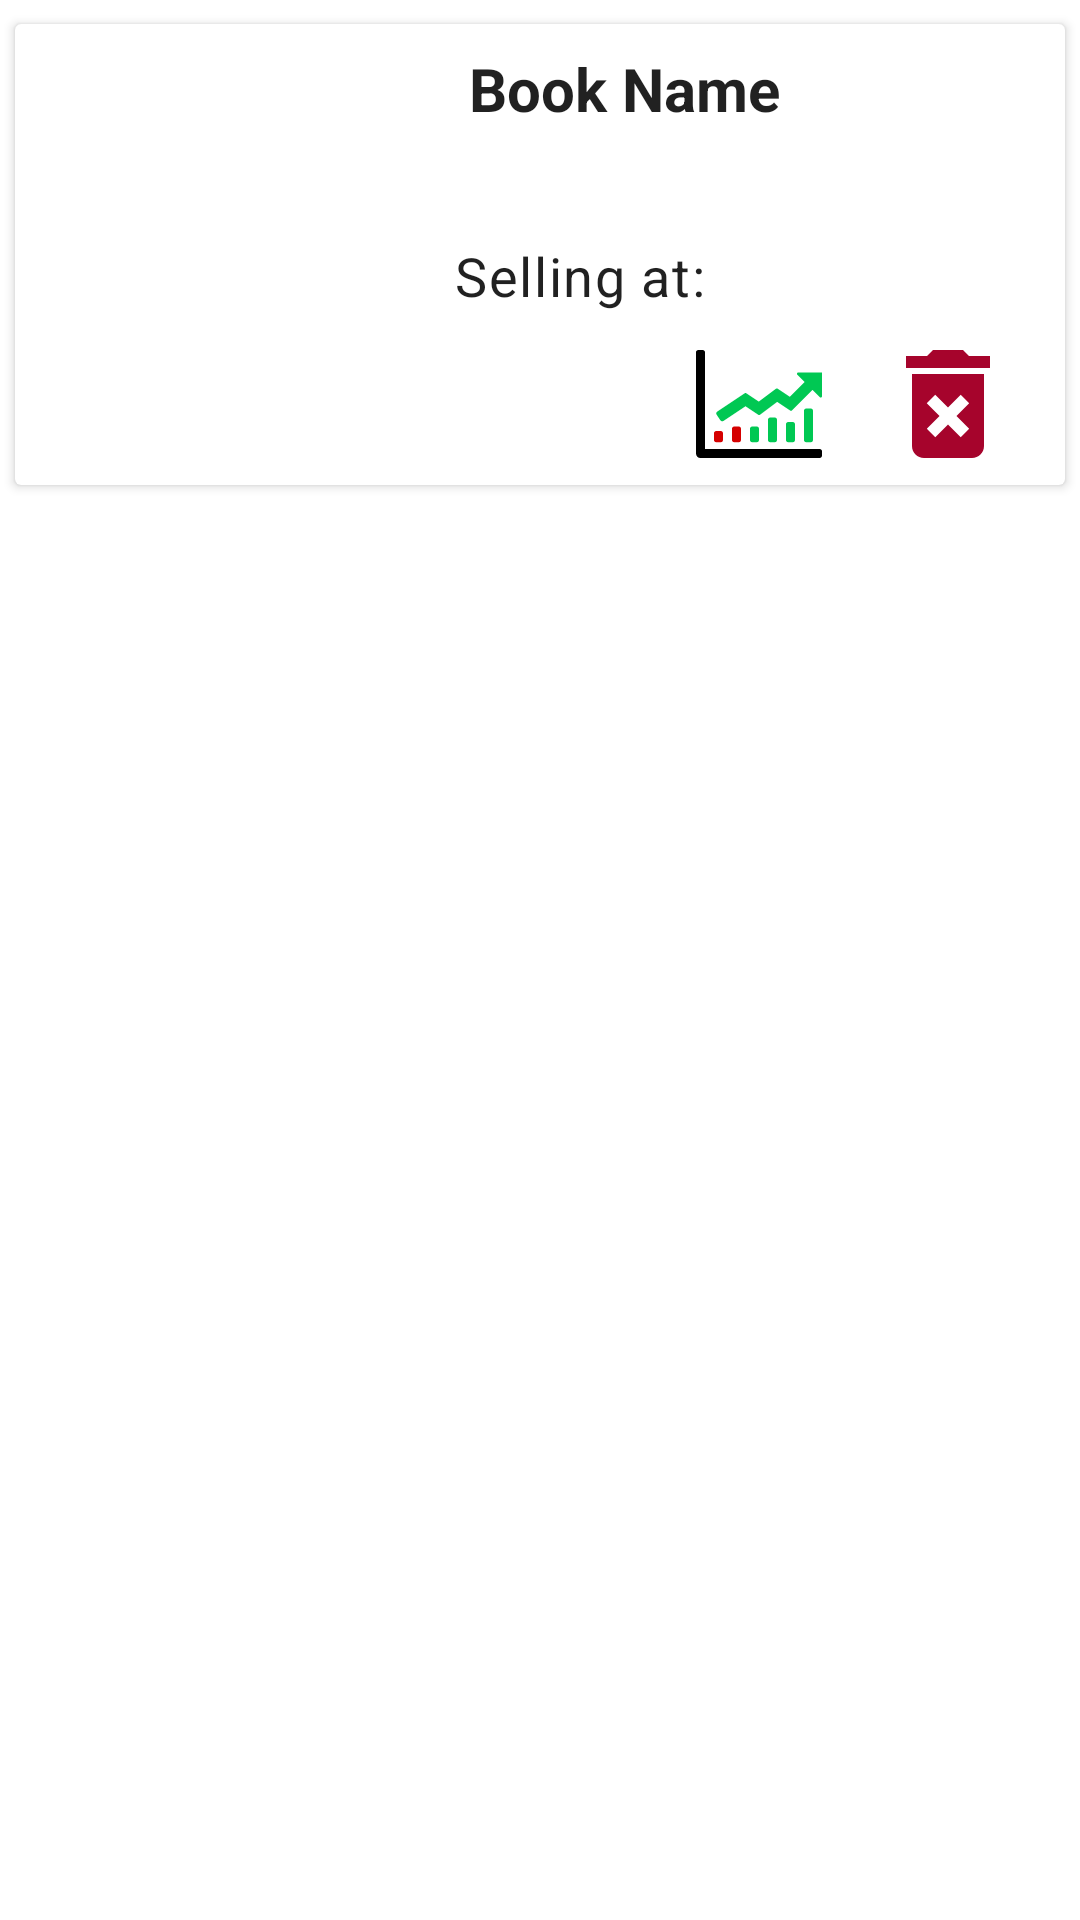

Locate icon controls on the screen. Image size 1080*1920, boxes as (x1, y1, x2, y2).
delete forever: (906, 350, 990, 458)
stats: (696, 350, 822, 458)
